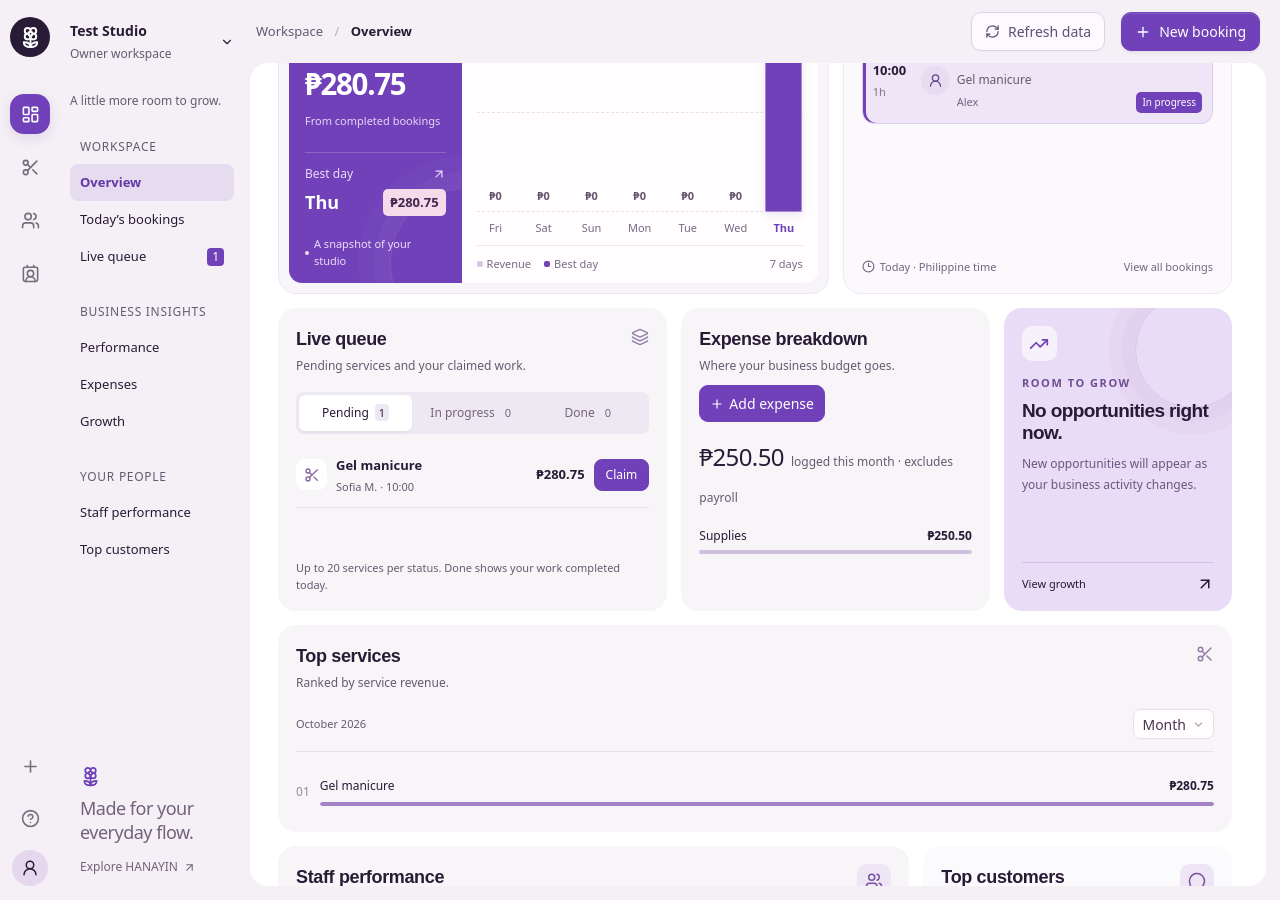
Test: live owner redesign › keeps failed queue writes unchanged and exposes the server error
(page scrolled)
What coordinates should you click on to do the following:
click the button "Claim"
I would click on:
 (621, 475)
Its box is [594,459,649,491].
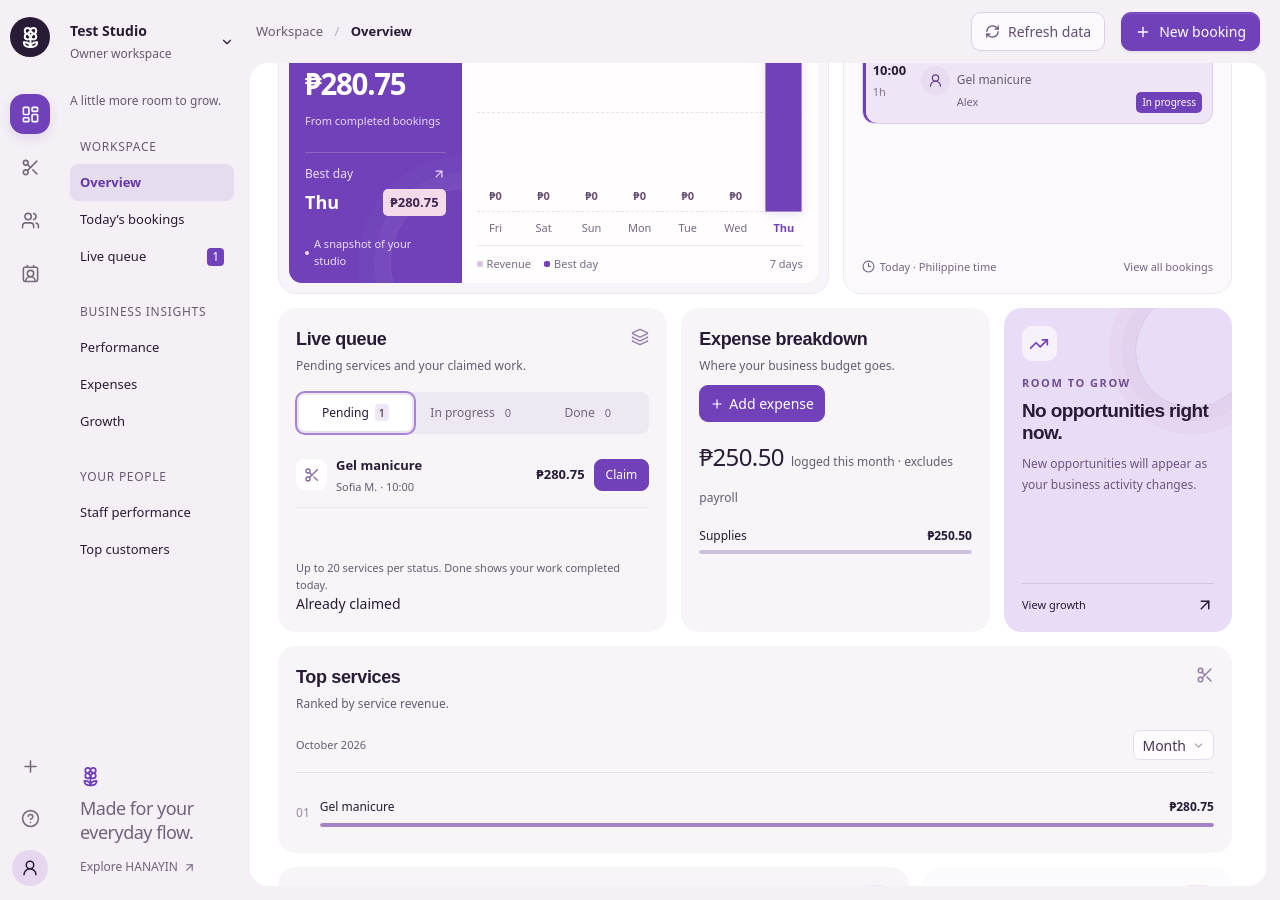
expect the text "Already claimed" is shown: met, box [296,594,401,613]
